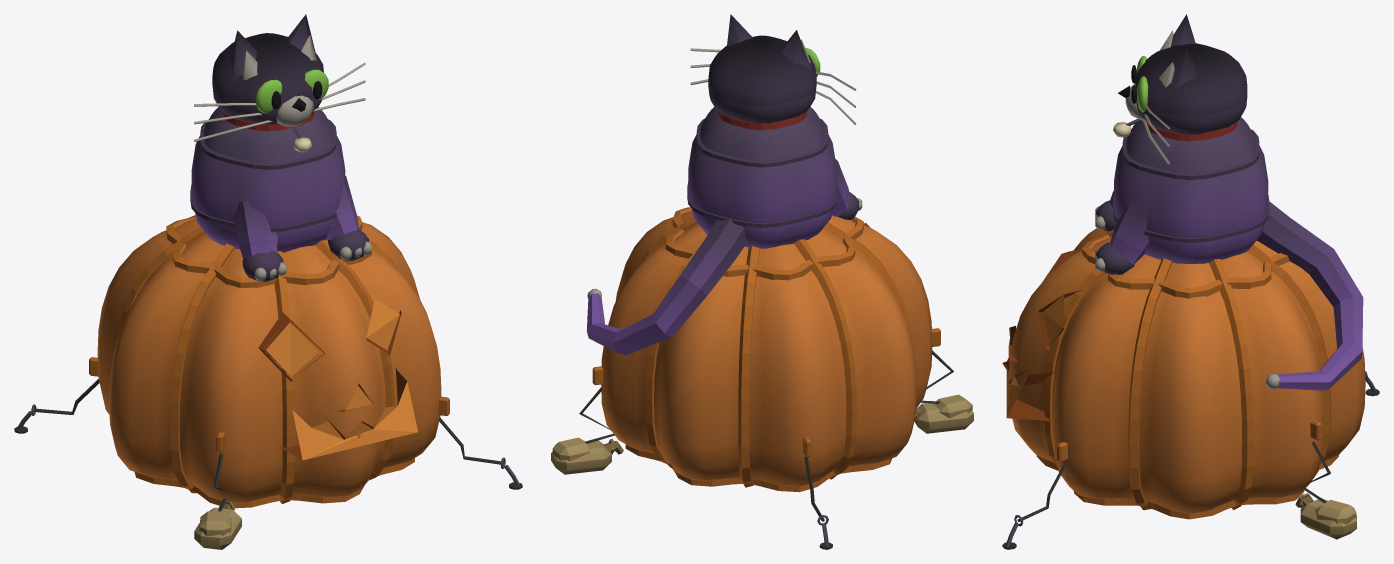
The model's file is inflatable_cat_pumpkin_01.glb.
3 renders of one model, left to right at view 1: azimuth 30°, elevation 25°; view 2: azimuth 150°, elevation 25°; view 3: azimuth 270°, elevation 25°, orthographic. The views are drawn at different scales.
Parts seen in each view (by area): view 1: inflatable_cat_pumpkin_01; view 2: inflatable_cat_pumpkin_01; view 3: inflatable_cat_pumpkin_01.
Part boxes in pixels (x1,y1,x2,y2): inflatable_cat_pumpkin_01: (14,14,522,549); inflatable_cat_pumpkin_01: (551,14,973,549); inflatable_cat_pumpkin_01: (1002,14,1379,549).
Size of the model in its own units: 2.75 by 3.55 by 2.75.
